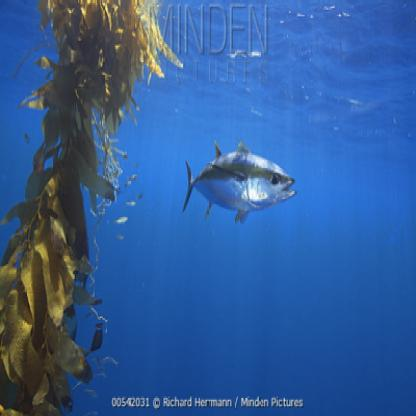Scombridae -Tunas-: (181, 137, 297, 226)
